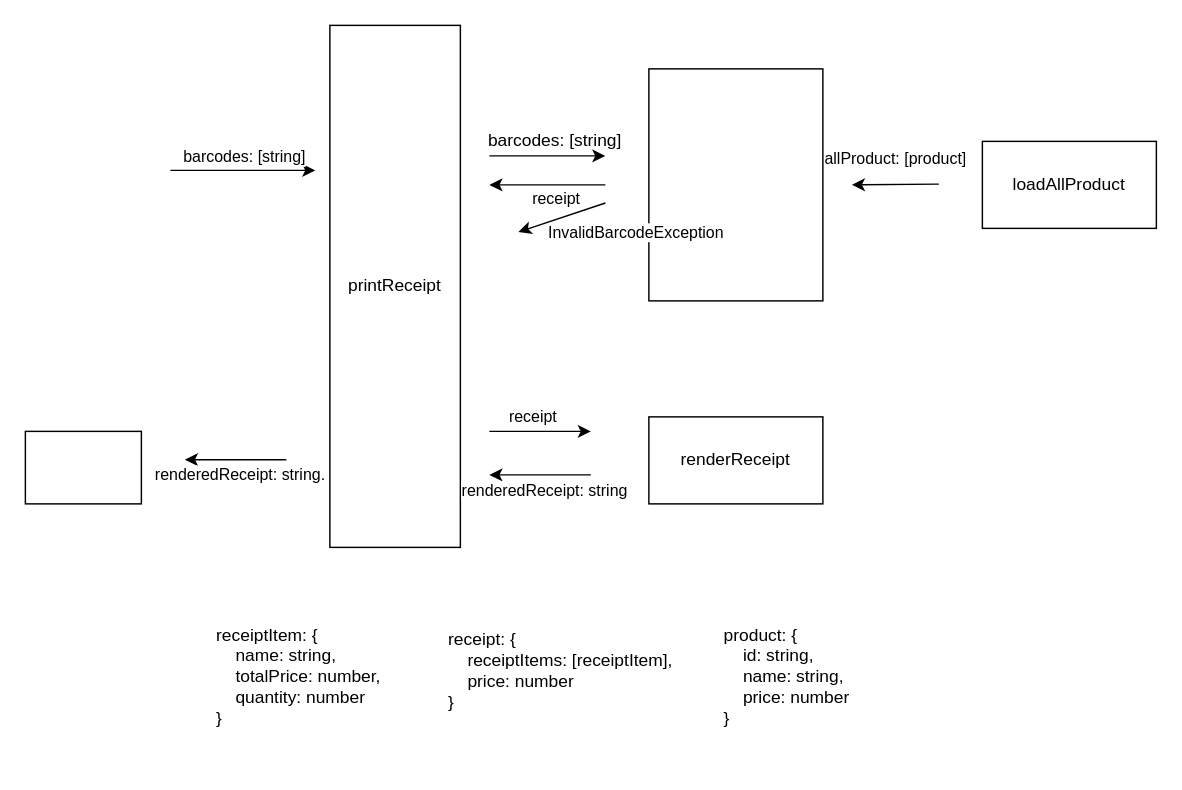
The diagram is 1182 pixels wide and 790 high, and some of its shapes have lost their labels. The shapes that lost their labels are listed below. From the top down, each one's centre as x and y in pixels, then its label:
At (x=735, y=184): "calculateReceipt".
At (x=82, y=467): "console.info()".
